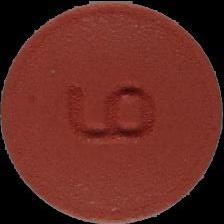64725-0113: (0, 0, 224, 224)
